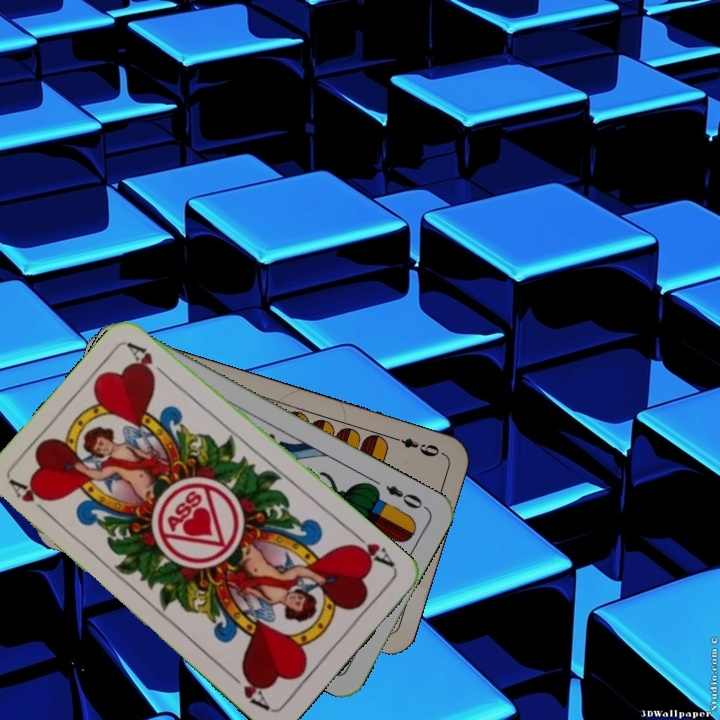E9: (387, 432, 445, 460)
EO: (381, 481, 430, 512)
HA: (345, 527, 397, 571), (6, 476, 55, 521)
